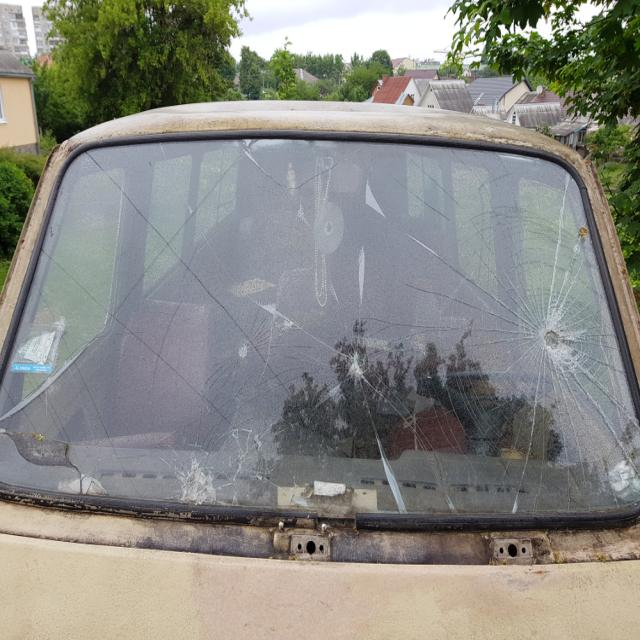Fissure: (404, 150, 640, 514), (263, 247, 404, 458), (140, 138, 360, 254), (144, 382, 272, 513), (0, 425, 128, 513)
